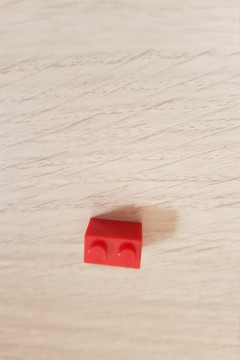1x2 red: (76, 213, 147, 270)
